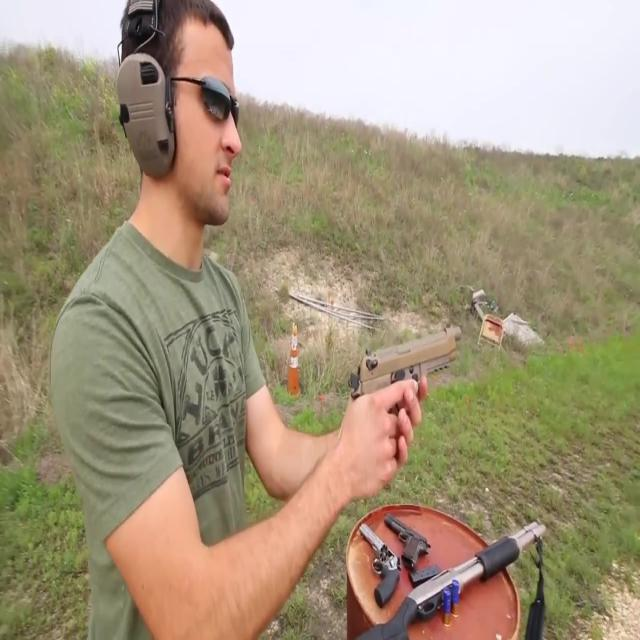Weapon: (328, 495, 591, 640), (313, 281, 487, 460)
